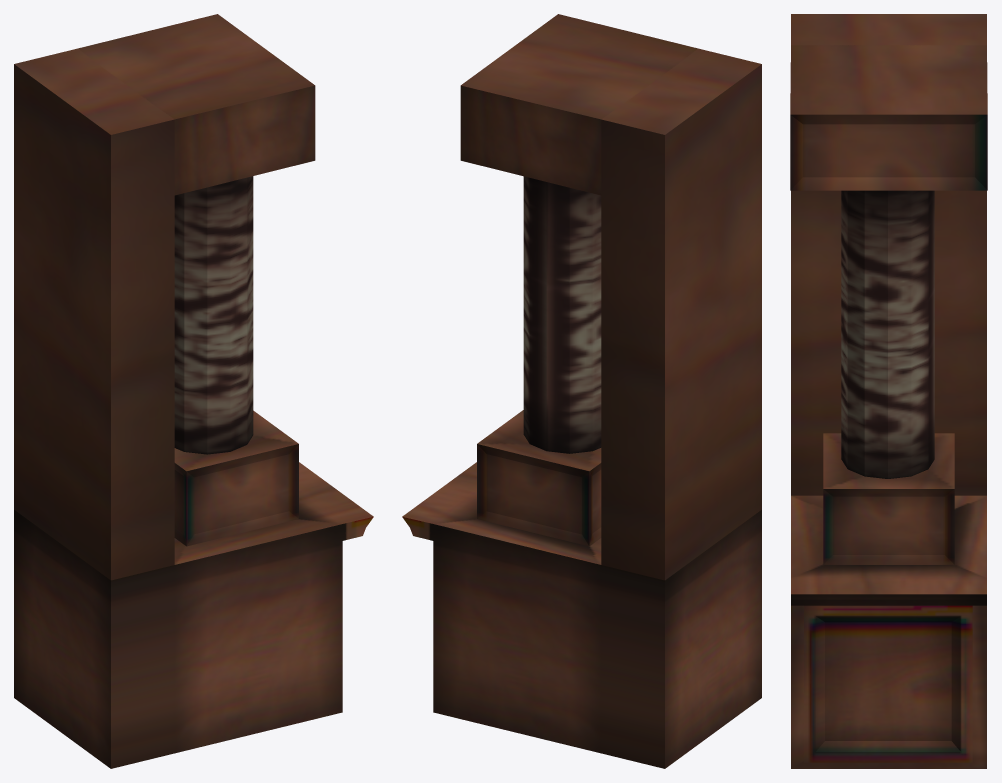
Rendered from Connector.glb.
3 views of the same model, side by side, from view 1: azimuth 30°, elevation 25°; view 2: azimuth 150°, elevation 25°; view 3: azimuth 270°, elevation 25° (orthographic).
Visible parts, largest first — view 1: Cylinder; view 2: Cylinder; view 3: Cylinder.
Part boxes in pixels (box(x1,y1,x2,y2)): Cylinder: box(14, 14, 373, 768); Cylinder: box(402, 14, 761, 768); Cylinder: box(790, 14, 987, 768).
Bounding box in the file's own units: 1.3 × 2.99 × 0.8356.
1 material, 1 textured.
